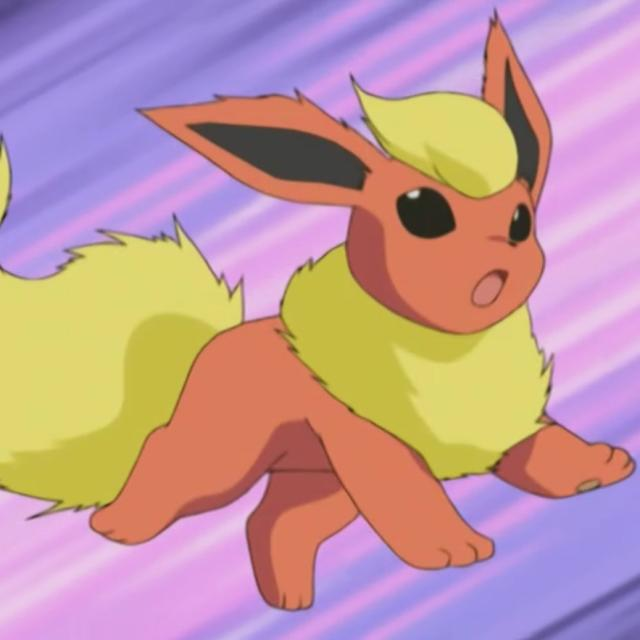Flareon: (122, 92, 573, 565)
